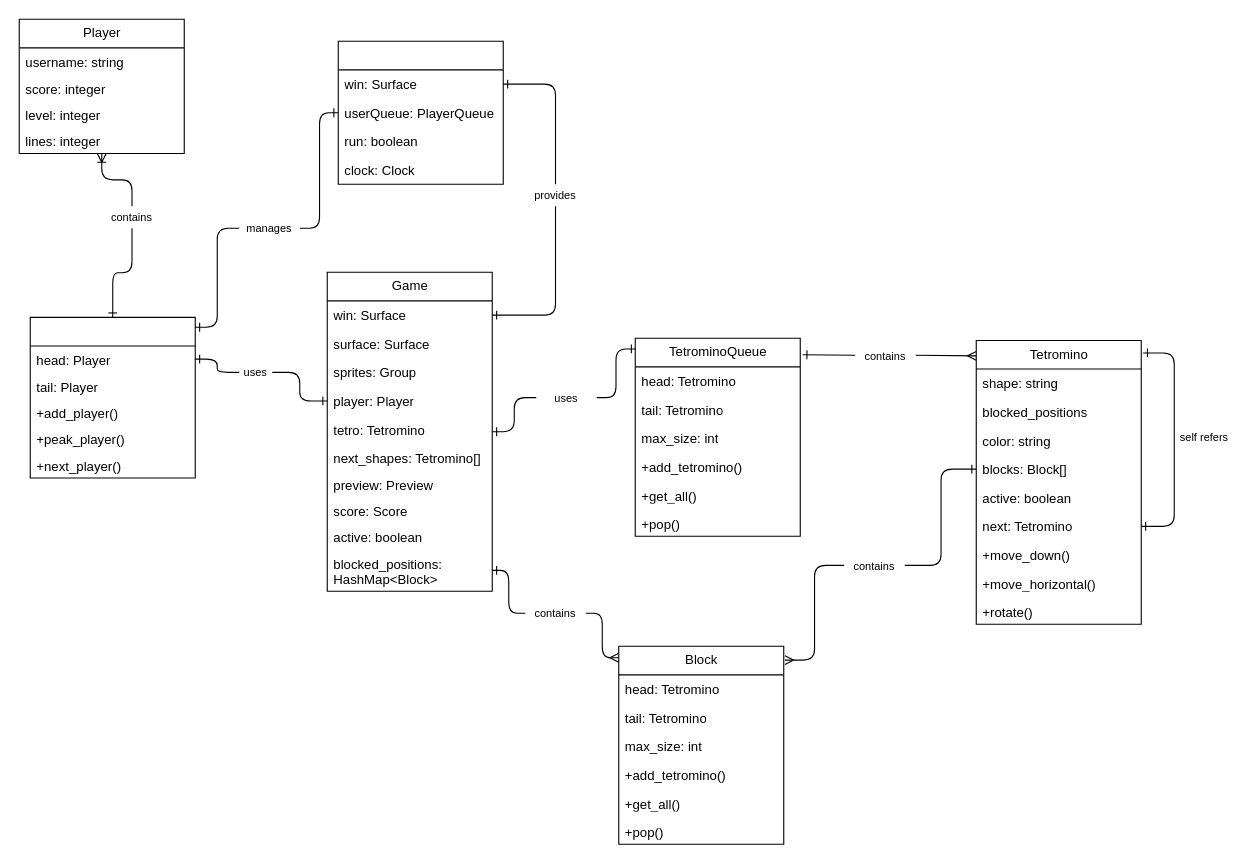
This 1254x867 diagram has some shape labels left out. The box of each missing label's shape, as (x1, y1, x2, y2) in pixels:
Main: (337, 40, 503, 184)
PlayerQueue: (29, 316, 195, 478)
